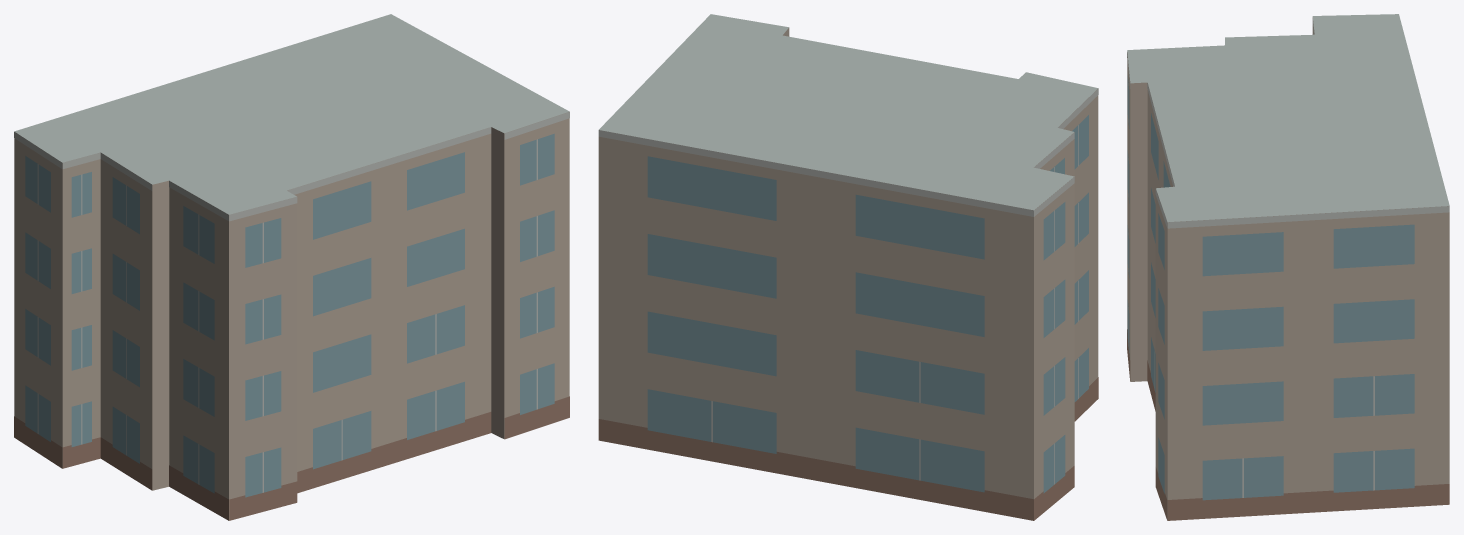
File: survey-upis-32637714.glb
3 views of the same model, side by side, from view 1: azimuth 30°, elevation 25°; view 2: azimuth 150°, elevation 25°; view 3: azimuth 270°, elevation 25° (orthographic). The views are drawn at different scales.
Parts seen in each view (by area): view 1: survey-upis-32637714.tmp; view 2: survey-upis-32637714.tmp; view 3: survey-upis-32637714.tmp.
Boxes of the visible parts, x1,y1,x2,y2 form: survey-upis-32637714.tmp: [14, 14, 569, 520]; survey-upis-32637714.tmp: [598, 14, 1098, 520]; survey-upis-32637714.tmp: [1127, 14, 1449, 520].
Size of the model in its own units: 16.9 by 11.3 by 11.07.
